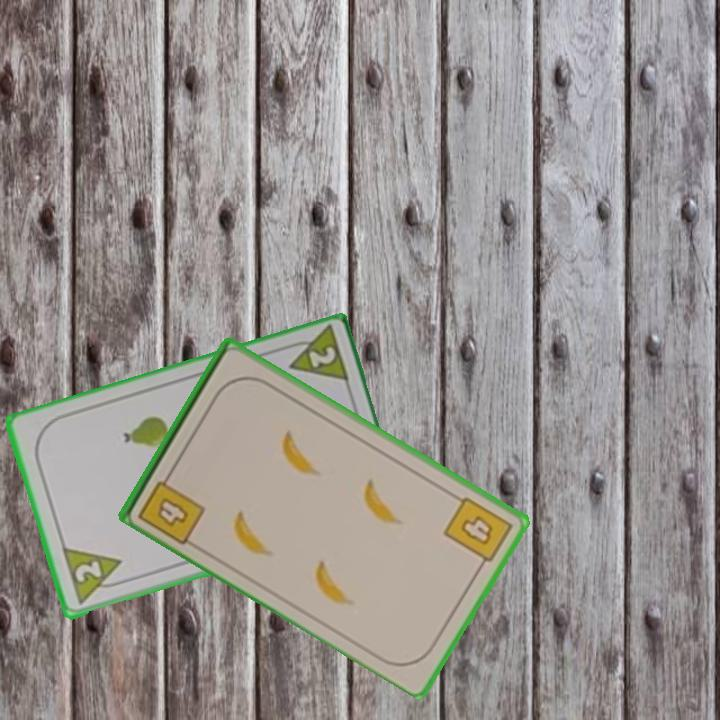2p: (279, 325, 352, 389), (58, 545, 130, 608)
4b: (439, 492, 516, 573), (134, 466, 208, 547)
